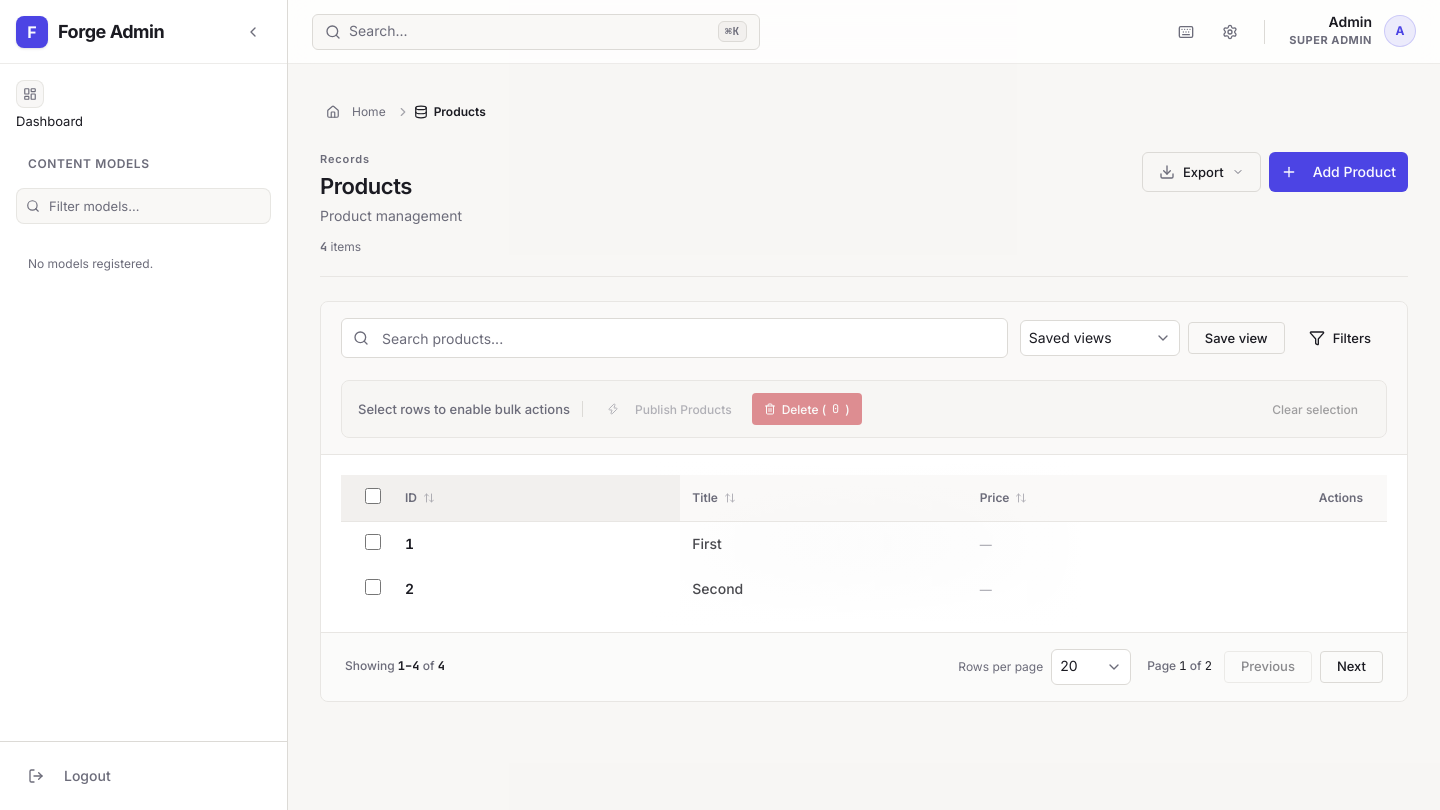
ModelListPage › keeps row selections while navigating between table pages
This screenshot has width=1440, height=810.
Click the checkbox with test id "select-1" at (373, 542), box [365, 534, 381, 550]
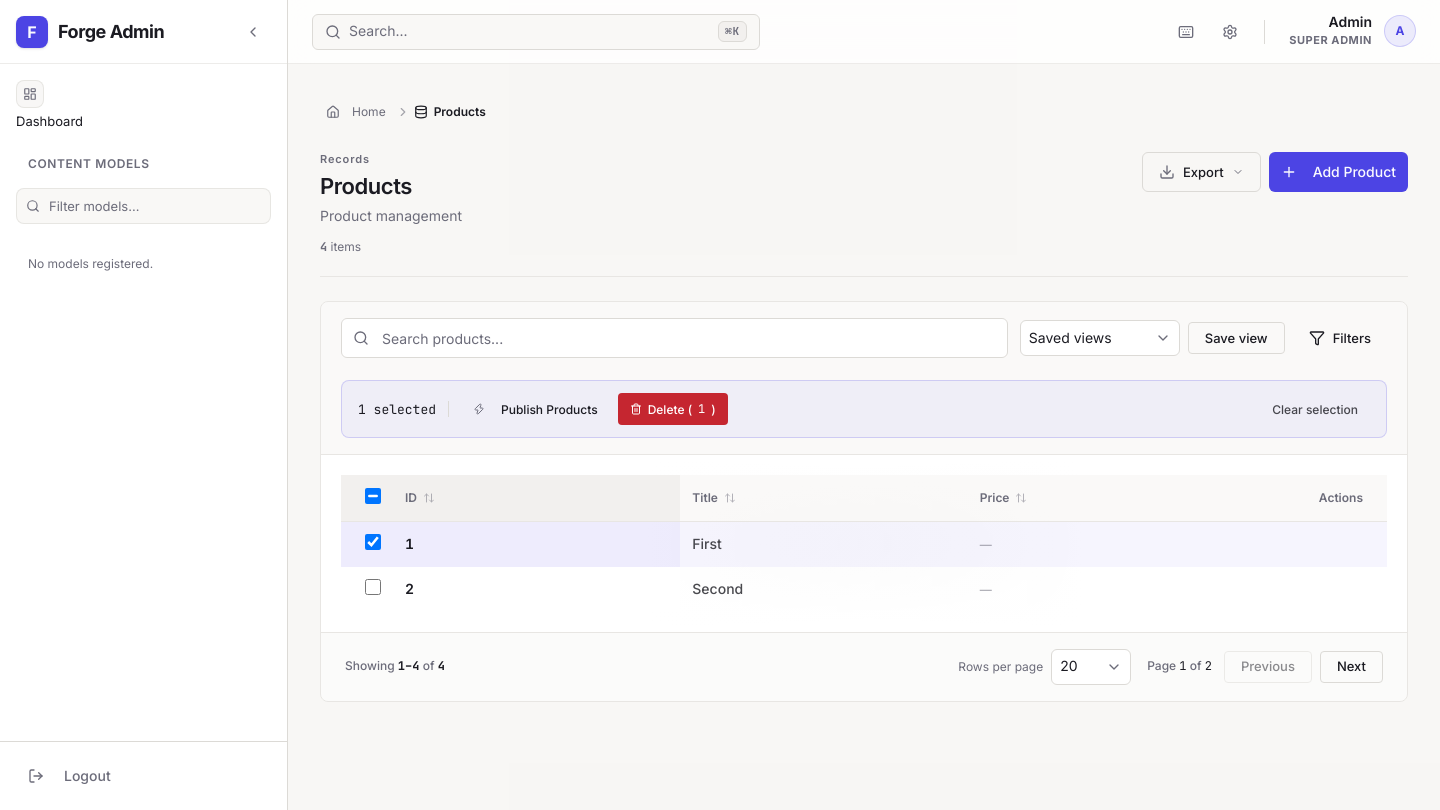
Click the button with test id "pagination-next" at (1351, 666), box [1320, 650, 1383, 682]
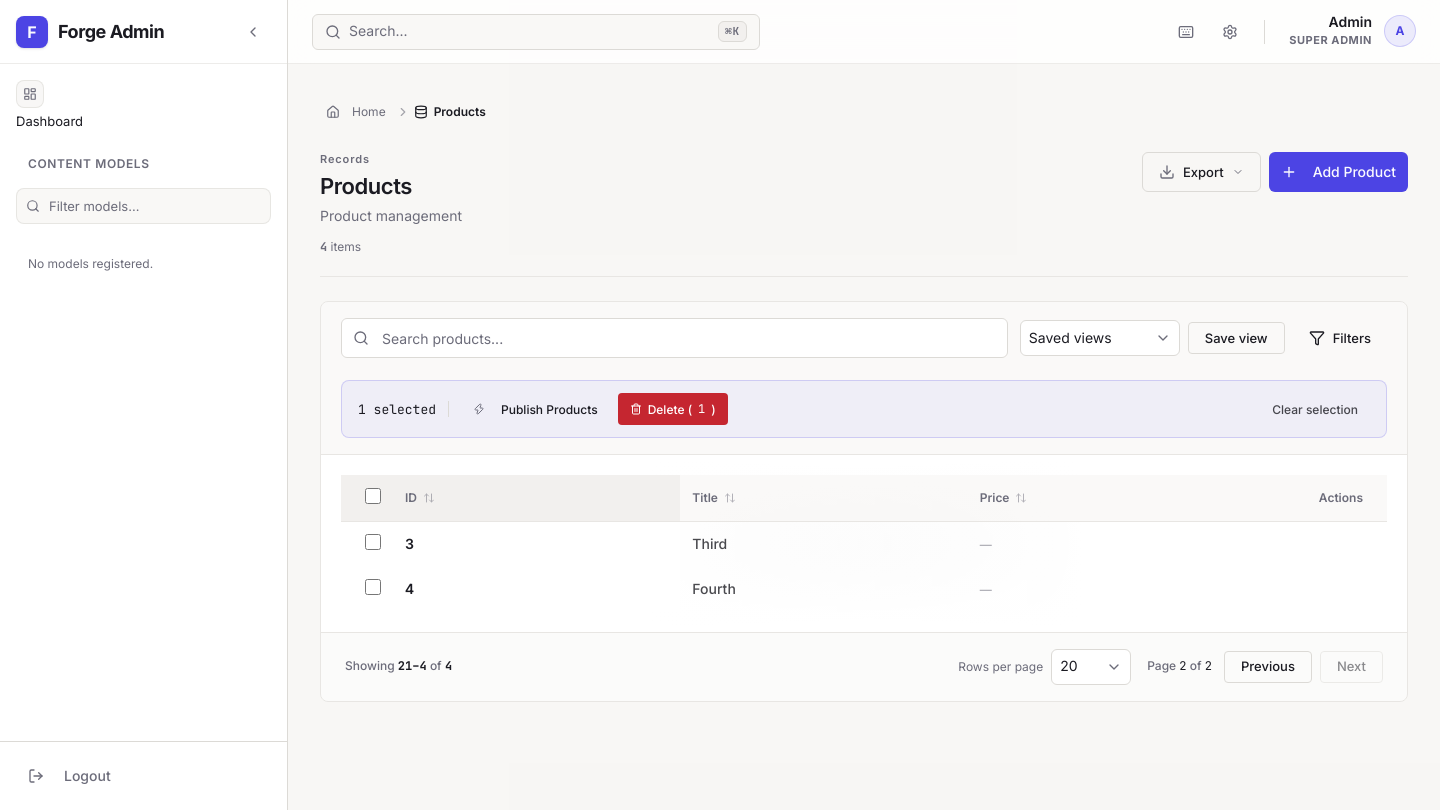
expect the text "1 selected" is shown: met, box [358, 400, 436, 418]
Click the checkbox with test id "select-all" at (373, 496), box [365, 488, 381, 504]
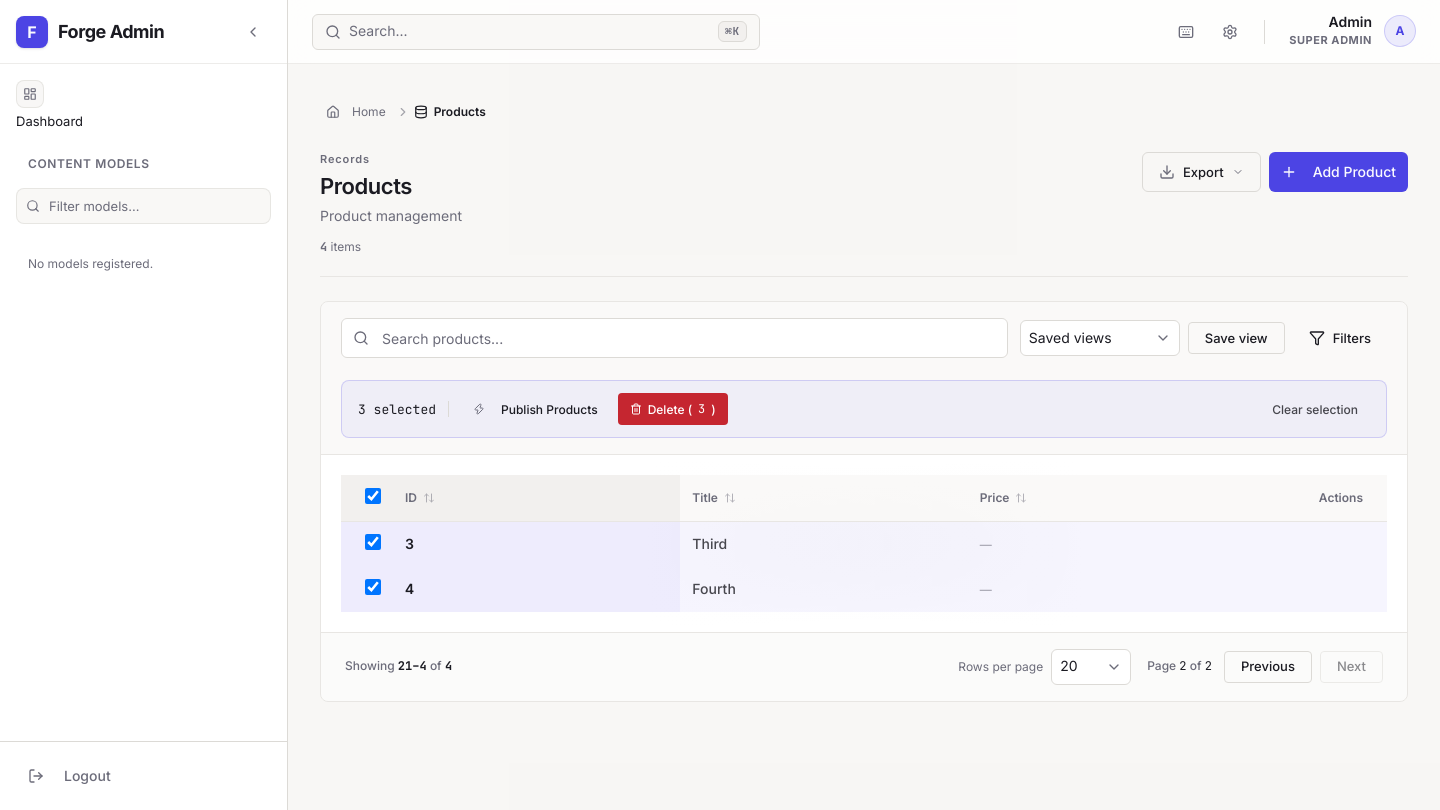
expect the text "3 selected" is shown: met, box [358, 400, 436, 418]
Click the button with test id "pagination-prev" at (1268, 666), box [1224, 650, 1312, 682]
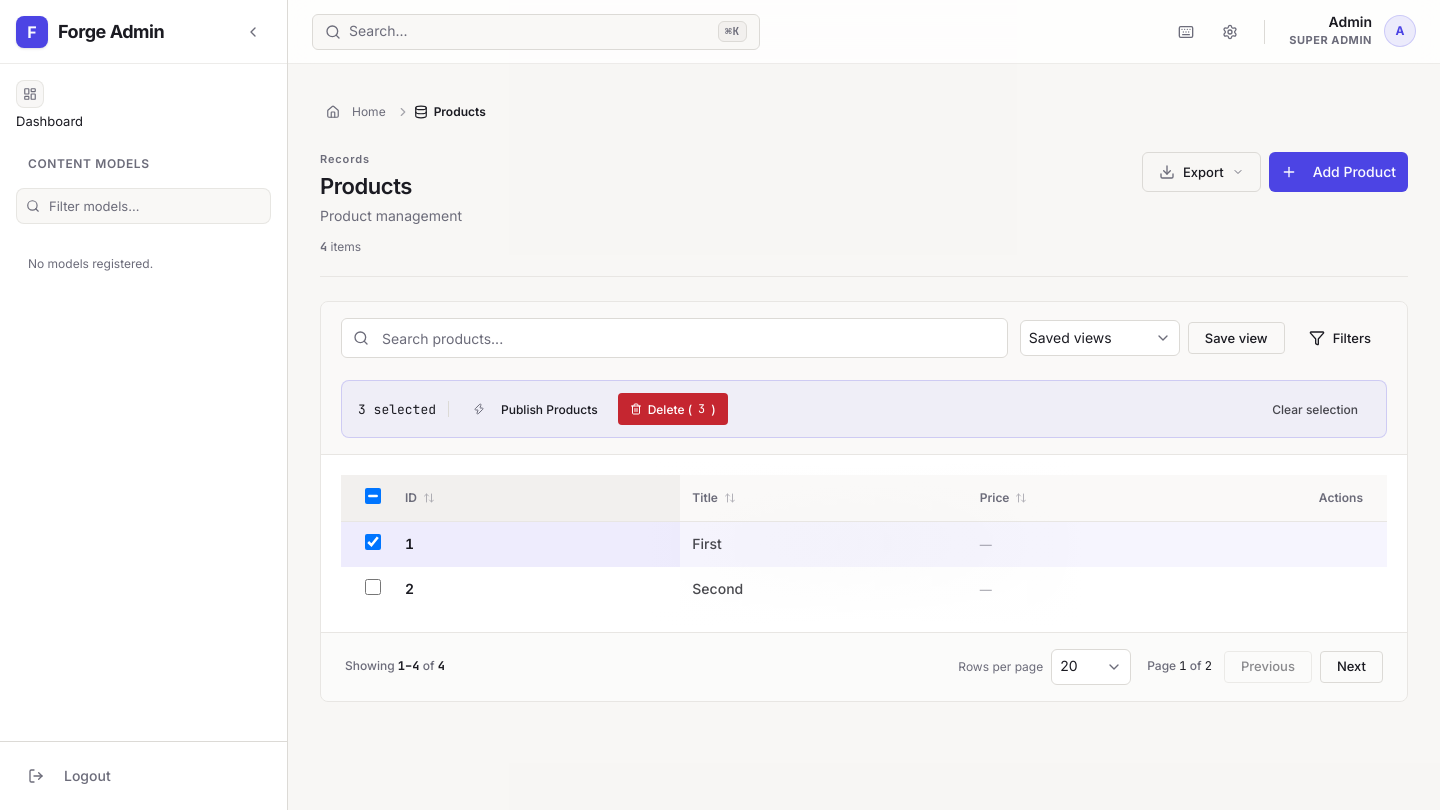
expect the checkbox with test id "select-1" is checked: met, box [365, 534, 381, 550]
expect the checkbox with test id "select-2" is not checked: met, box [365, 579, 381, 595]
